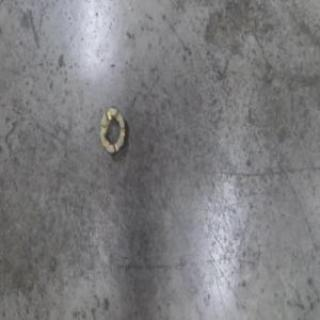Nuttrack_idkeyframe: (97, 104, 127, 157)
